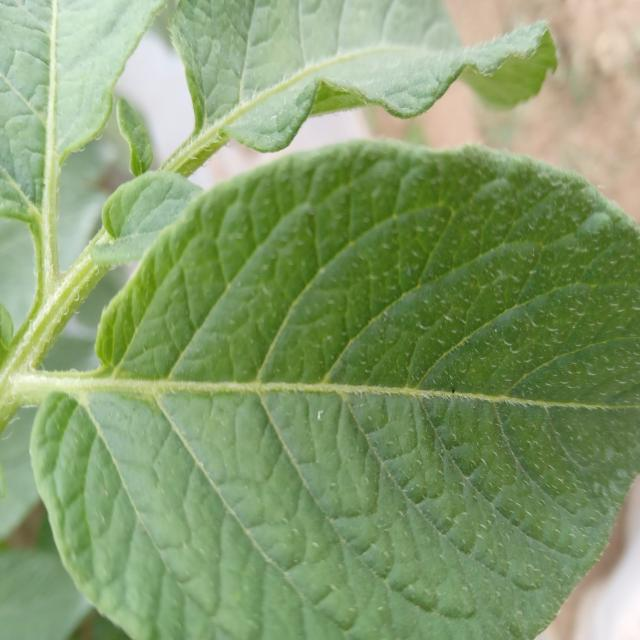healthy: (25, 137, 638, 637)
